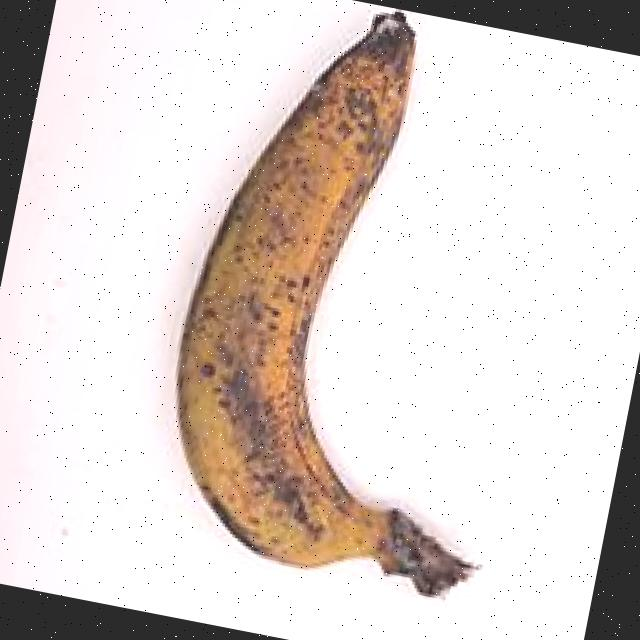Overripe: (120, 0, 581, 631)
